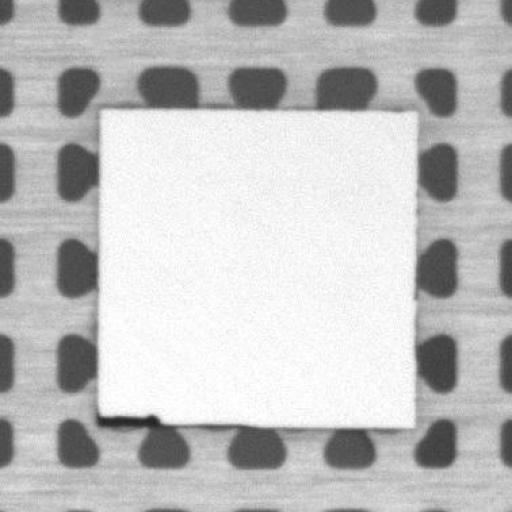DIE_BROKEN: (92, 404, 187, 428)
